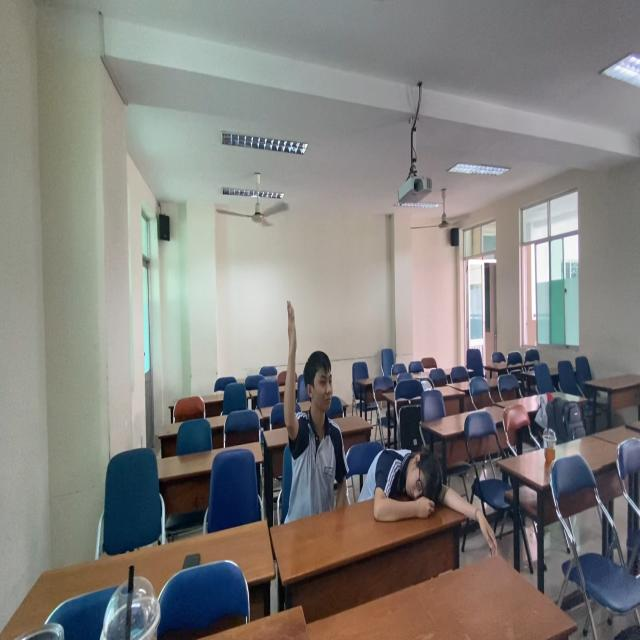raise_hand: (283, 297, 341, 492)
sleep: (357, 437, 464, 527)
